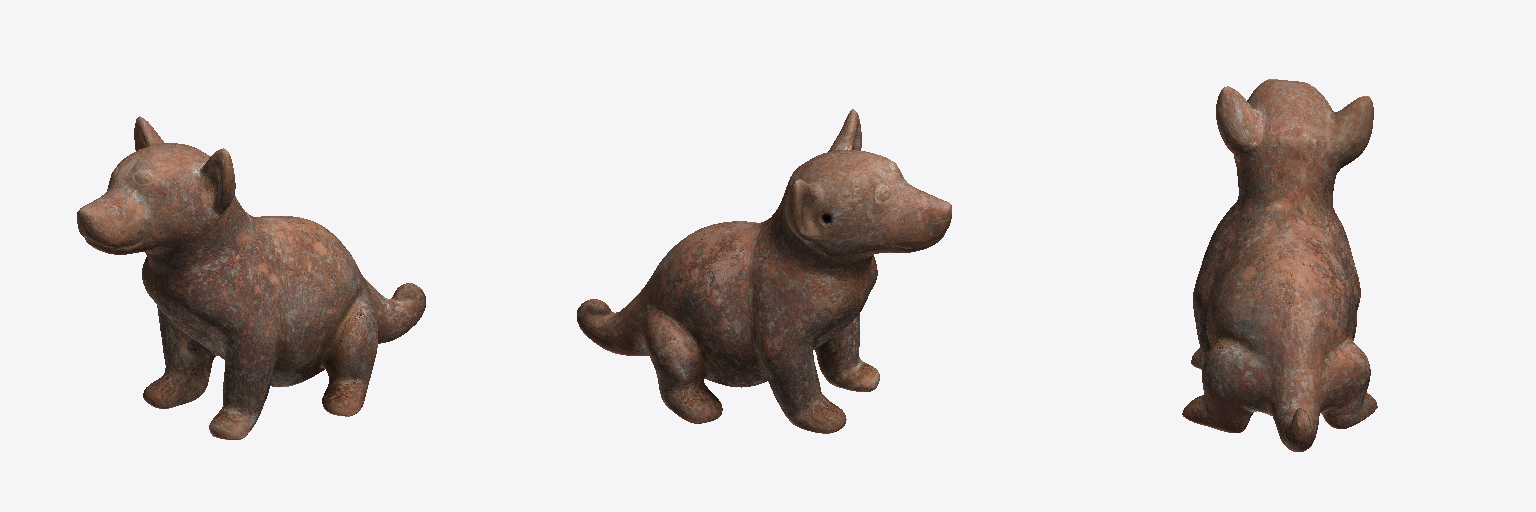
3 renders of one model, left to right at view 1: azimuth 30°, elevation 25°; view 2: azimuth 150°, elevation 25°; view 3: azimuth 270°, elevation 25°, orthographic.
Visible parts, largest first — view 1: 190116_mia348_005992_64kMesh_OBJ; view 2: 190116_mia348_005992_64kMesh_OBJ; view 3: 190116_mia348_005992_64kMesh_OBJ.
Part boxes in pixels (left/top/right/bottom): 190116_mia348_005992_64kMesh_OBJ: left=77, top=116, right=425, bottom=439; 190116_mia348_005992_64kMesh_OBJ: left=577, top=109, right=951, bottom=433; 190116_mia348_005992_64kMesh_OBJ: left=1182, top=79, right=1377, bottom=451.
Size of the model in its own units: 1.37 by 1.03 by 0.6456.
Materials: 1 (1 with a texture image).